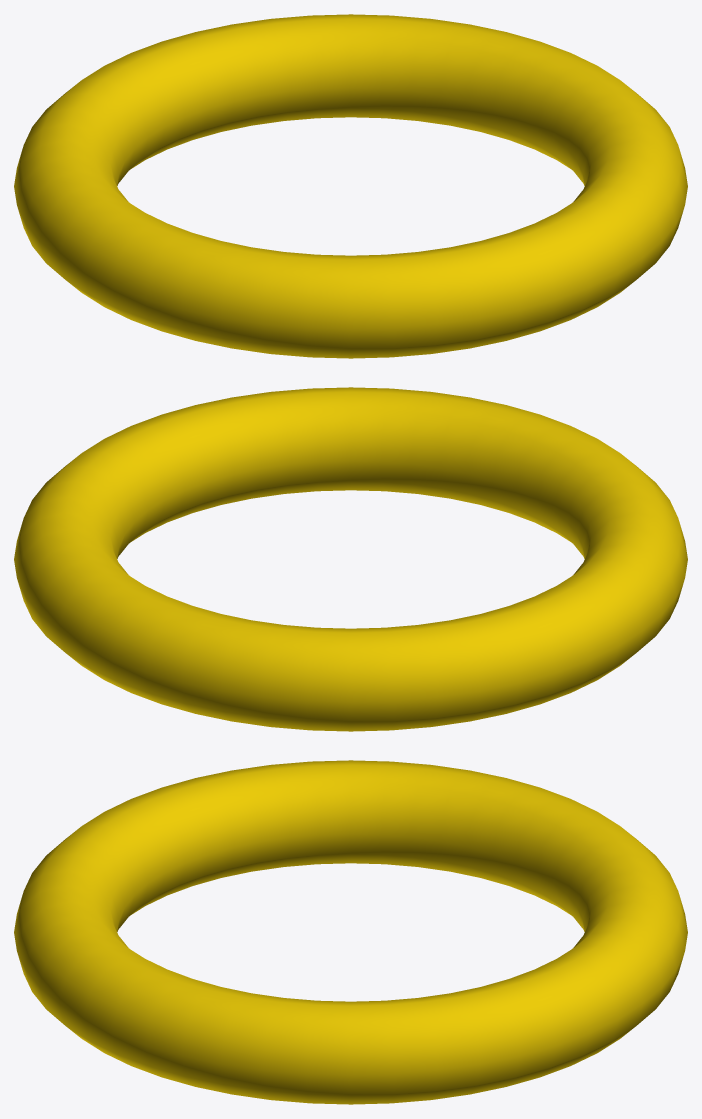
Rendered from halo.glb.
3 renders of one model, top to bottom at view 1: azimuth 30°, elevation 25°; view 2: azimuth 150°, elevation 25°; view 3: azimuth 270°, elevation 25°, orthographic.
Visible parts, largest first — view 1: Torus; view 2: Torus; view 3: Torus.
Part boxes in pixels (x1,y1,x2,y2): Torus: (14,14,687,358); Torus: (14,387,687,731); Torus: (14,760,687,1104).
Size of the model in its own units: 1.23 by 0.1886 by 1.23.
